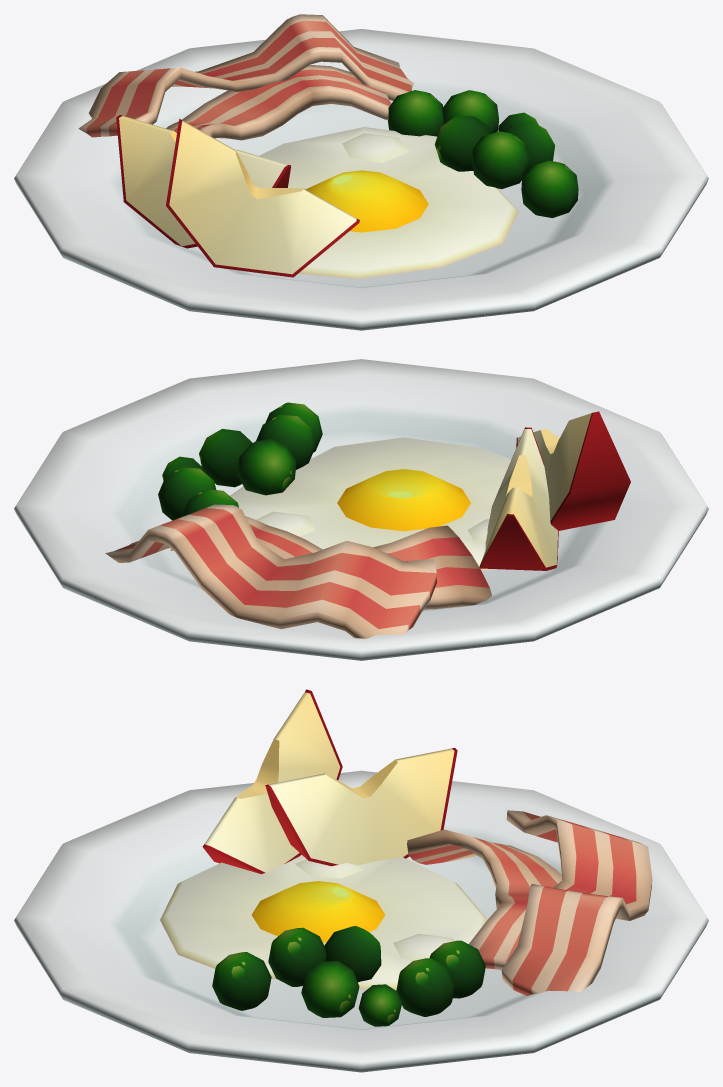
File: CR_caf_Dish_005.FBX
3 views of the same model, one above another, from view 1: azimuth 30°, elevation 25°; view 2: azimuth 150°, elevation 25°; view 3: azimuth 270°, elevation 25° (orthographic).
Visible parts, largest first — view 1: CR_caf_Dish_005; view 2: CR_caf_Dish_005; view 3: CR_caf_Dish_005.
Part boxes in pixels (box(x1,y1,x2,y2)): CR_caf_Dish_005: box(14, 14, 708, 330); CR_caf_Dish_005: box(14, 359, 708, 660); CR_caf_Dish_005: box(14, 689, 708, 1072).
Bounding box in the file's own units: 30.83 × 8.79 × 30.83.
